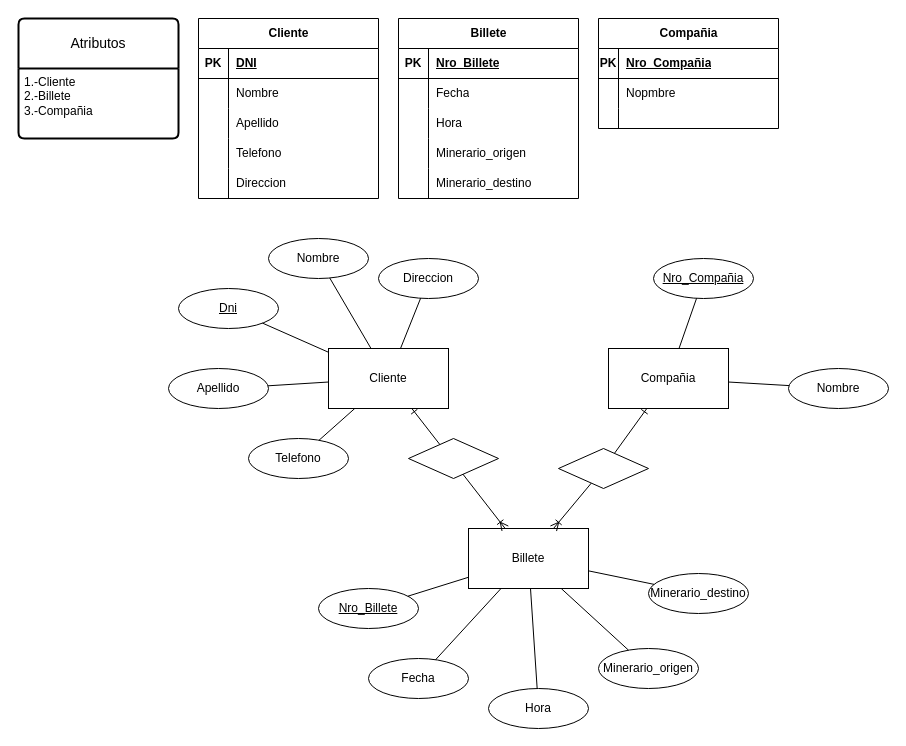
Some shapes in this 906 by 746 pixel diagram are drawn without their labels. The centre of each missing label's shape, as x and y in pixels:
"Compra" goes at point (453, 458).
"Es vendido" goes at point (603, 468).
